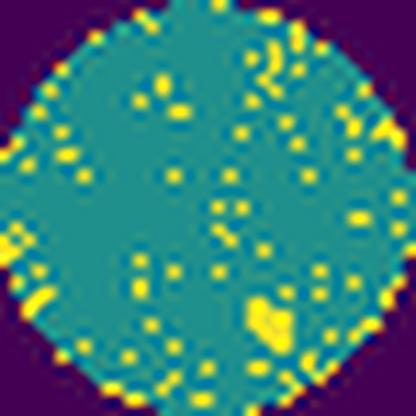Loc: (247, 294, 296, 351)
